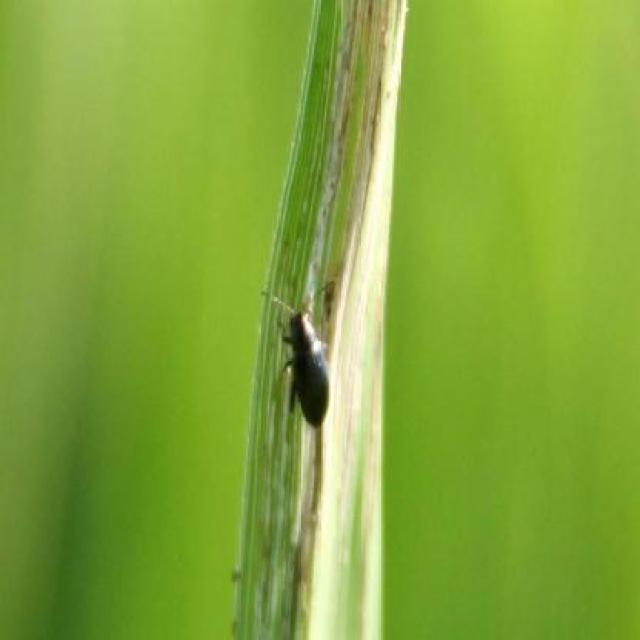rice-bug: (282, 291, 341, 429)
